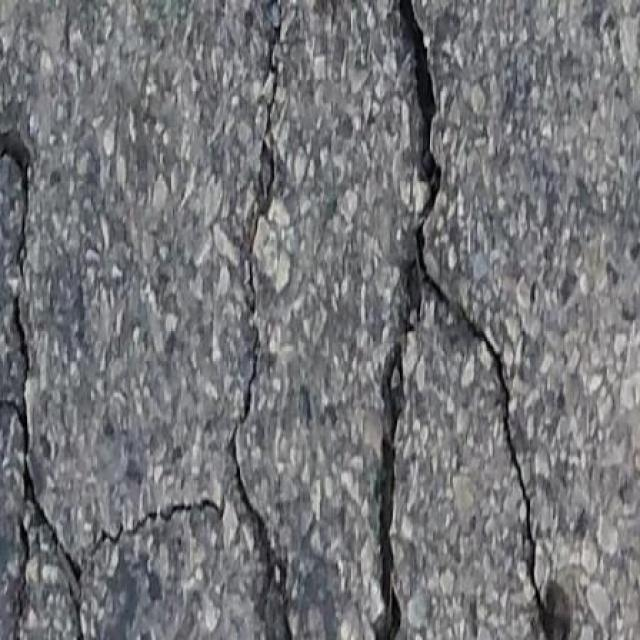Crack: (378, 6, 456, 639), (10, 461, 139, 639), (228, 460, 291, 640), (448, 295, 519, 449), (0, 115, 35, 414), (228, 284, 248, 447), (530, 549, 566, 639), (255, 171, 281, 223), (148, 515, 225, 528)
